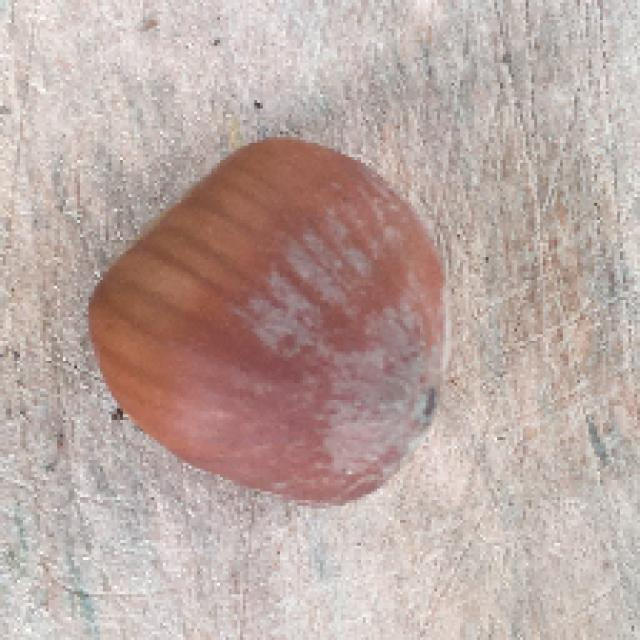qualityHazelnut: (88, 132, 459, 504)
